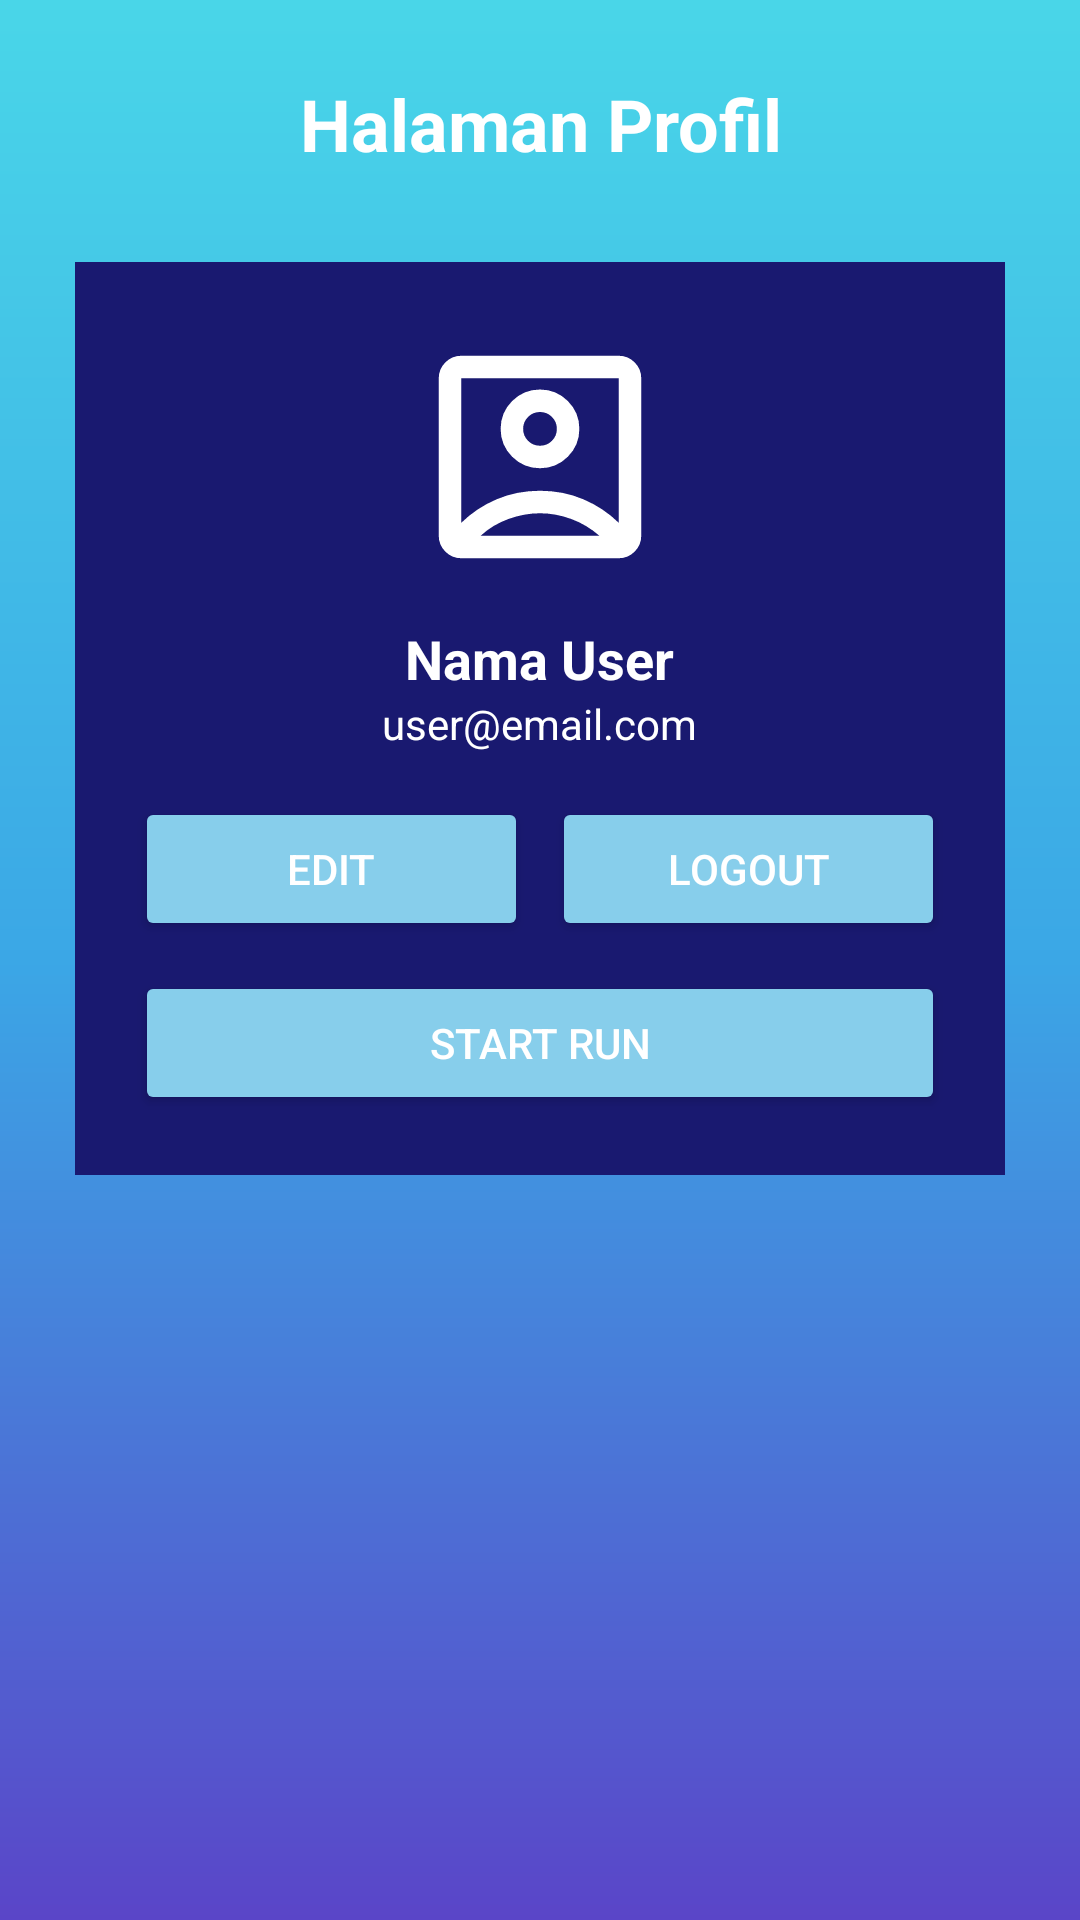

Icons on this 1080w x 1920h Android screen, each with its box as (x1, y1, x2, y2):
account: (438, 355, 642, 559)
